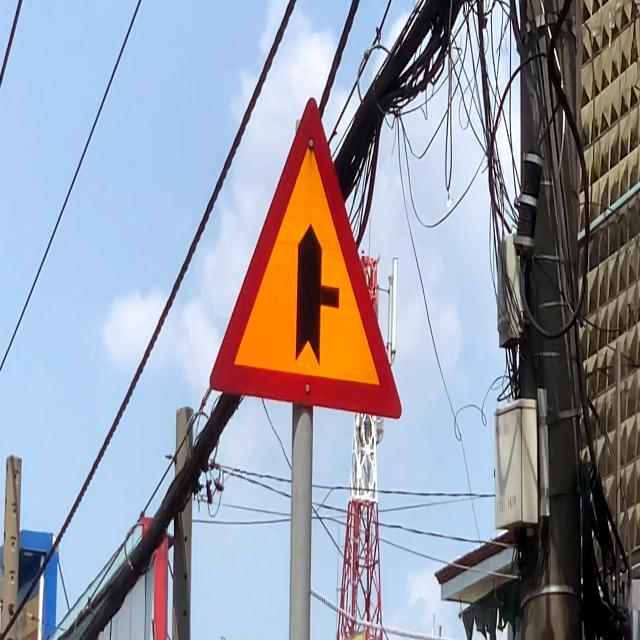W.207b: (201, 84, 408, 432)
